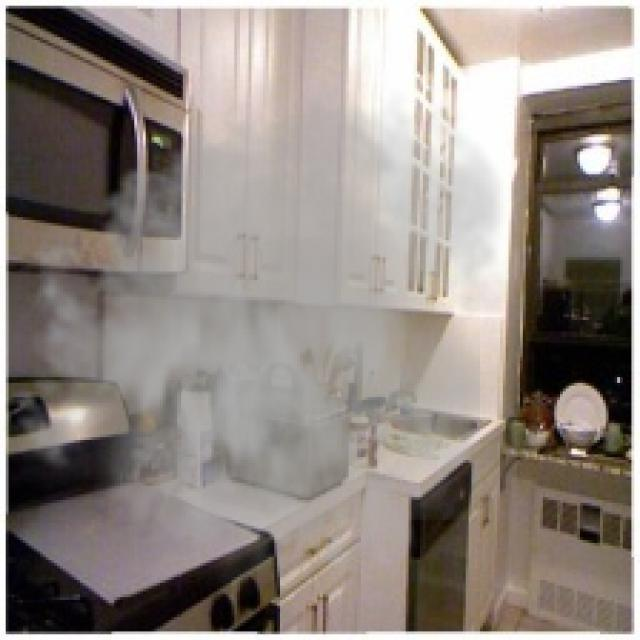Smoke: (0, 68, 517, 614)
